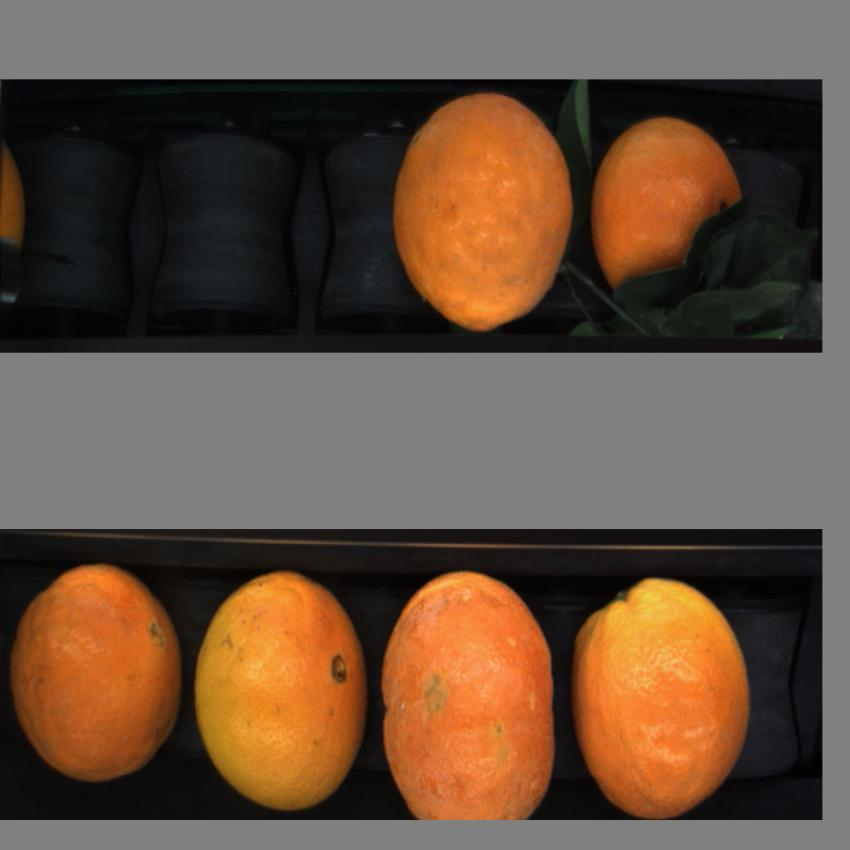Buen estado: (191, 564, 370, 808), (571, 576, 754, 810), (594, 114, 750, 304)
Mal estado: (383, 564, 562, 822), (390, 88, 572, 330), (10, 561, 184, 782)
